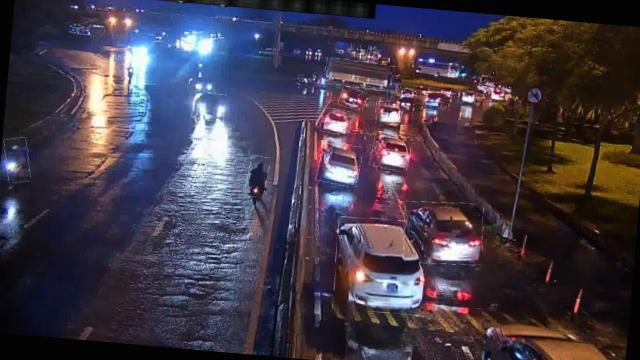Bike: (2, 137, 32, 185), (246, 154, 270, 198)
Car: (332, 215, 428, 316), (402, 198, 486, 268), (316, 140, 362, 186), (369, 132, 412, 172), (192, 90, 226, 122), (320, 107, 352, 135), (374, 101, 404, 127), (338, 87, 368, 110), (391, 94, 417, 112)
Truck: (324, 58, 399, 92)
